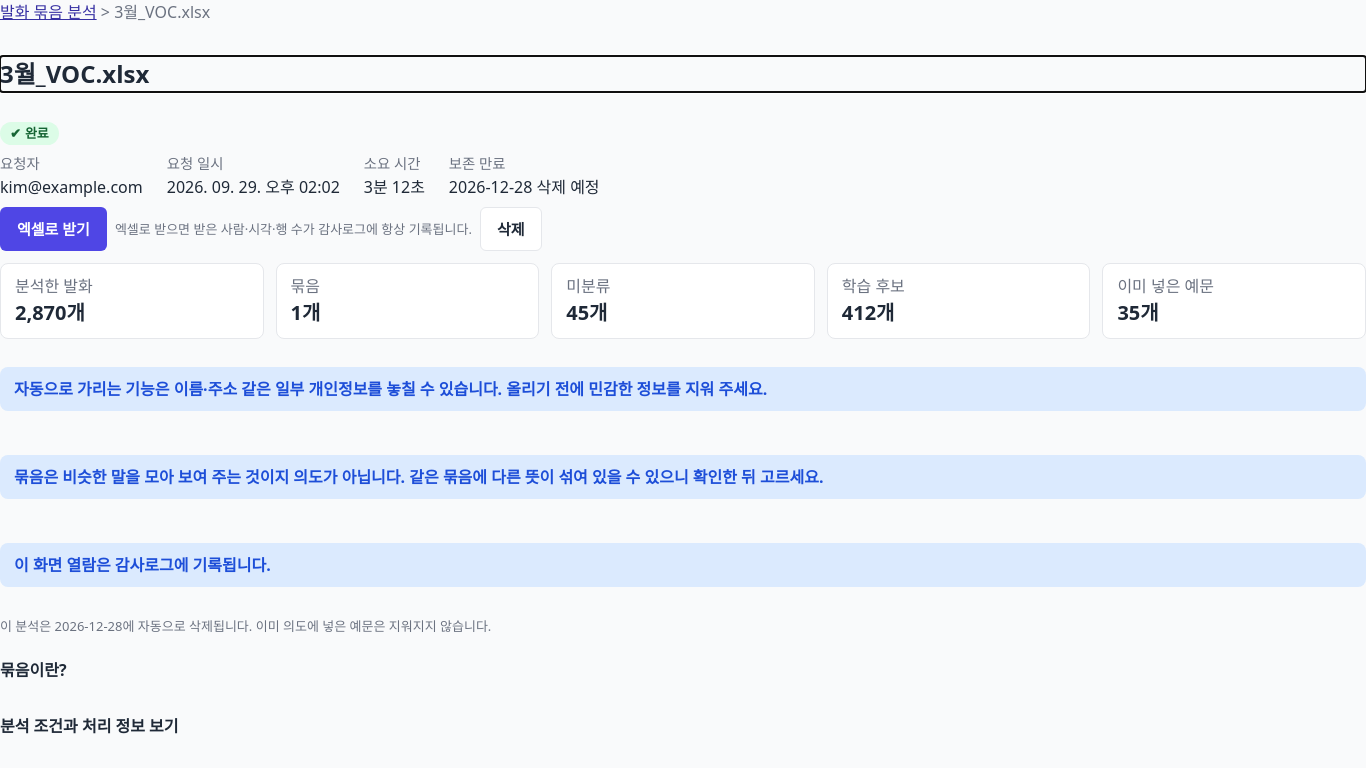
발화 묶음 분석 화면 — axe 접근성 스캔 › UA-3b 삭제 확인 대화상자
The image size is (1366, 768).
Click the button "삭제". click: coordinates (511, 229)
box: [480,207,542,251]
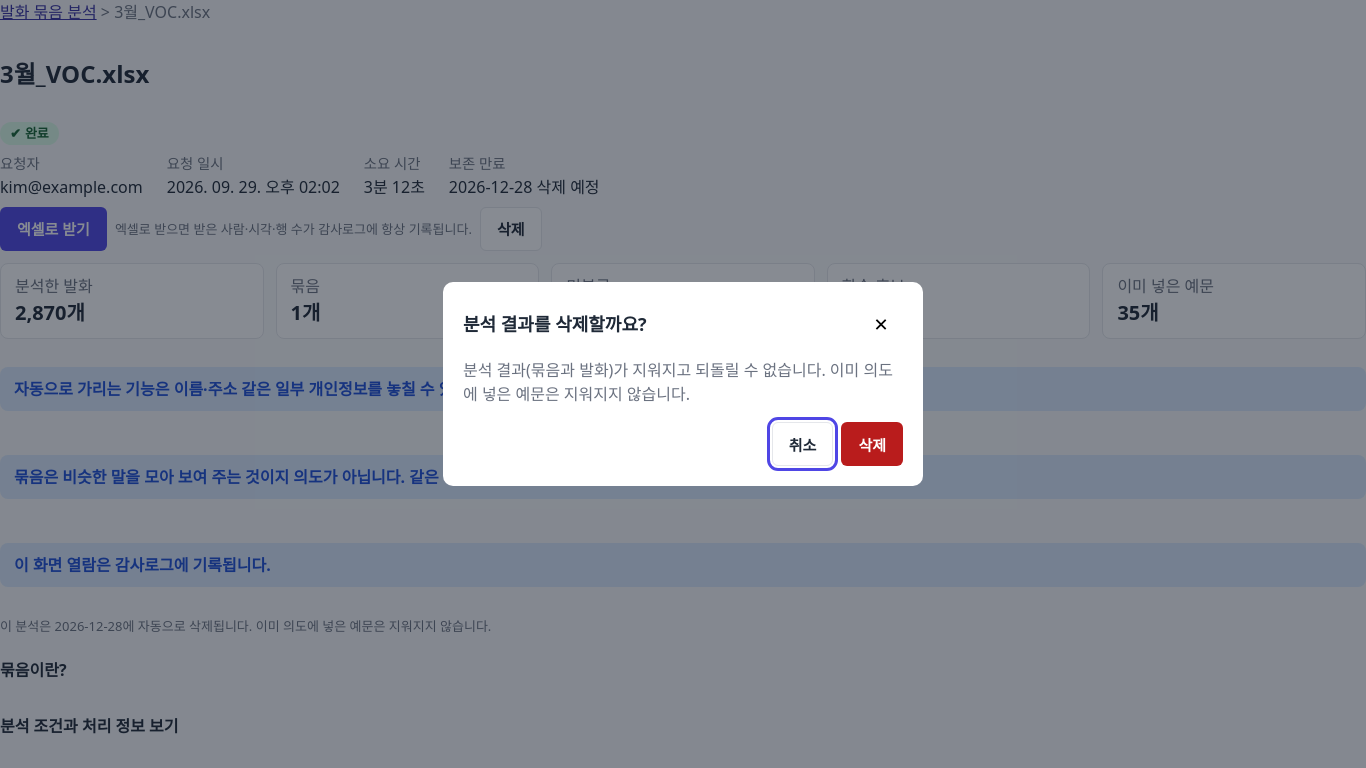
Now the dialog "분석 결과를 삭제할까요?" is shown, box [443,282,923,486]
